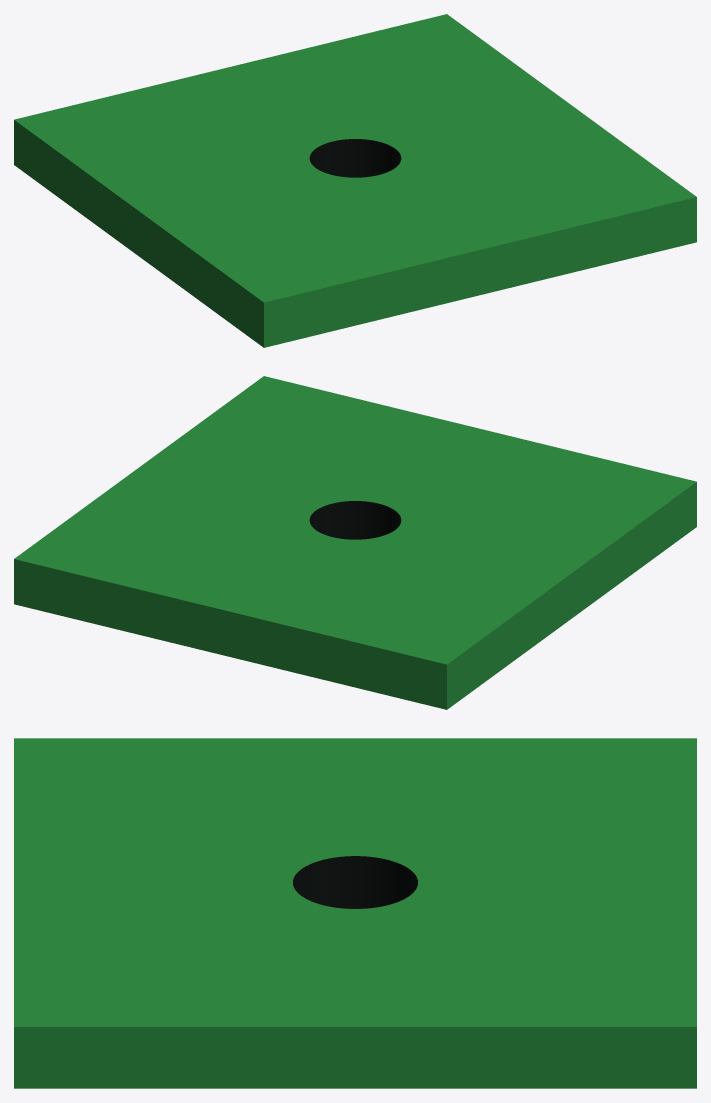
Rendered from Turf_Hole_Tile_60cm_Cup11cm.obj.
3 renders of one model, top to bottom at view 1: azimuth 30°, elevation 25°; view 2: azimuth 150°, elevation 25°; view 3: azimuth 270°, elevation 25°, orthographic. The views are drawn at different scales.
Visible parts, largest first — view 1: Turf_Hole_Tile_60cm_Cup11cm; view 2: Turf_Hole_Tile_60cm_Cup11cm; view 3: Turf_Hole_Tile_60cm_Cup11cm.
Boxes of the visible parts, x1,y1,x2,y2 form: Turf_Hole_Tile_60cm_Cup11cm: (14, 14, 696, 347); Turf_Hole_Tile_60cm_Cup11cm: (14, 376, 696, 709); Turf_Hole_Tile_60cm_Cup11cm: (14, 738, 696, 1088).
Size of the model in its own units: 0.6 by 0.06 by 0.6.
